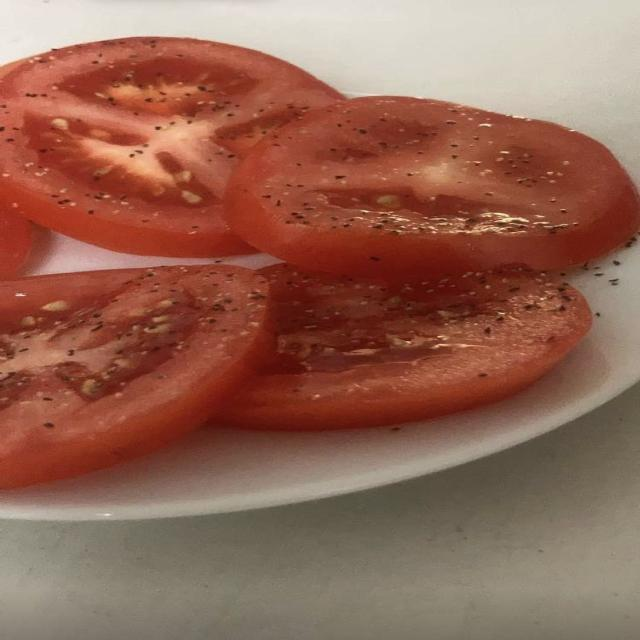sliced_tomato: (0, 38, 342, 256), (228, 97, 639, 277), (223, 265, 591, 429), (0, 265, 270, 488), (0, 213, 31, 278)
